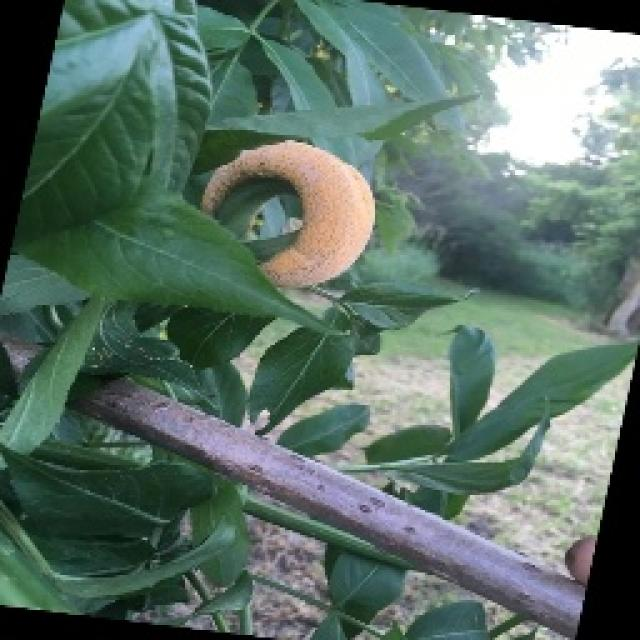Elderberry_rust: (168, 135, 394, 306)
